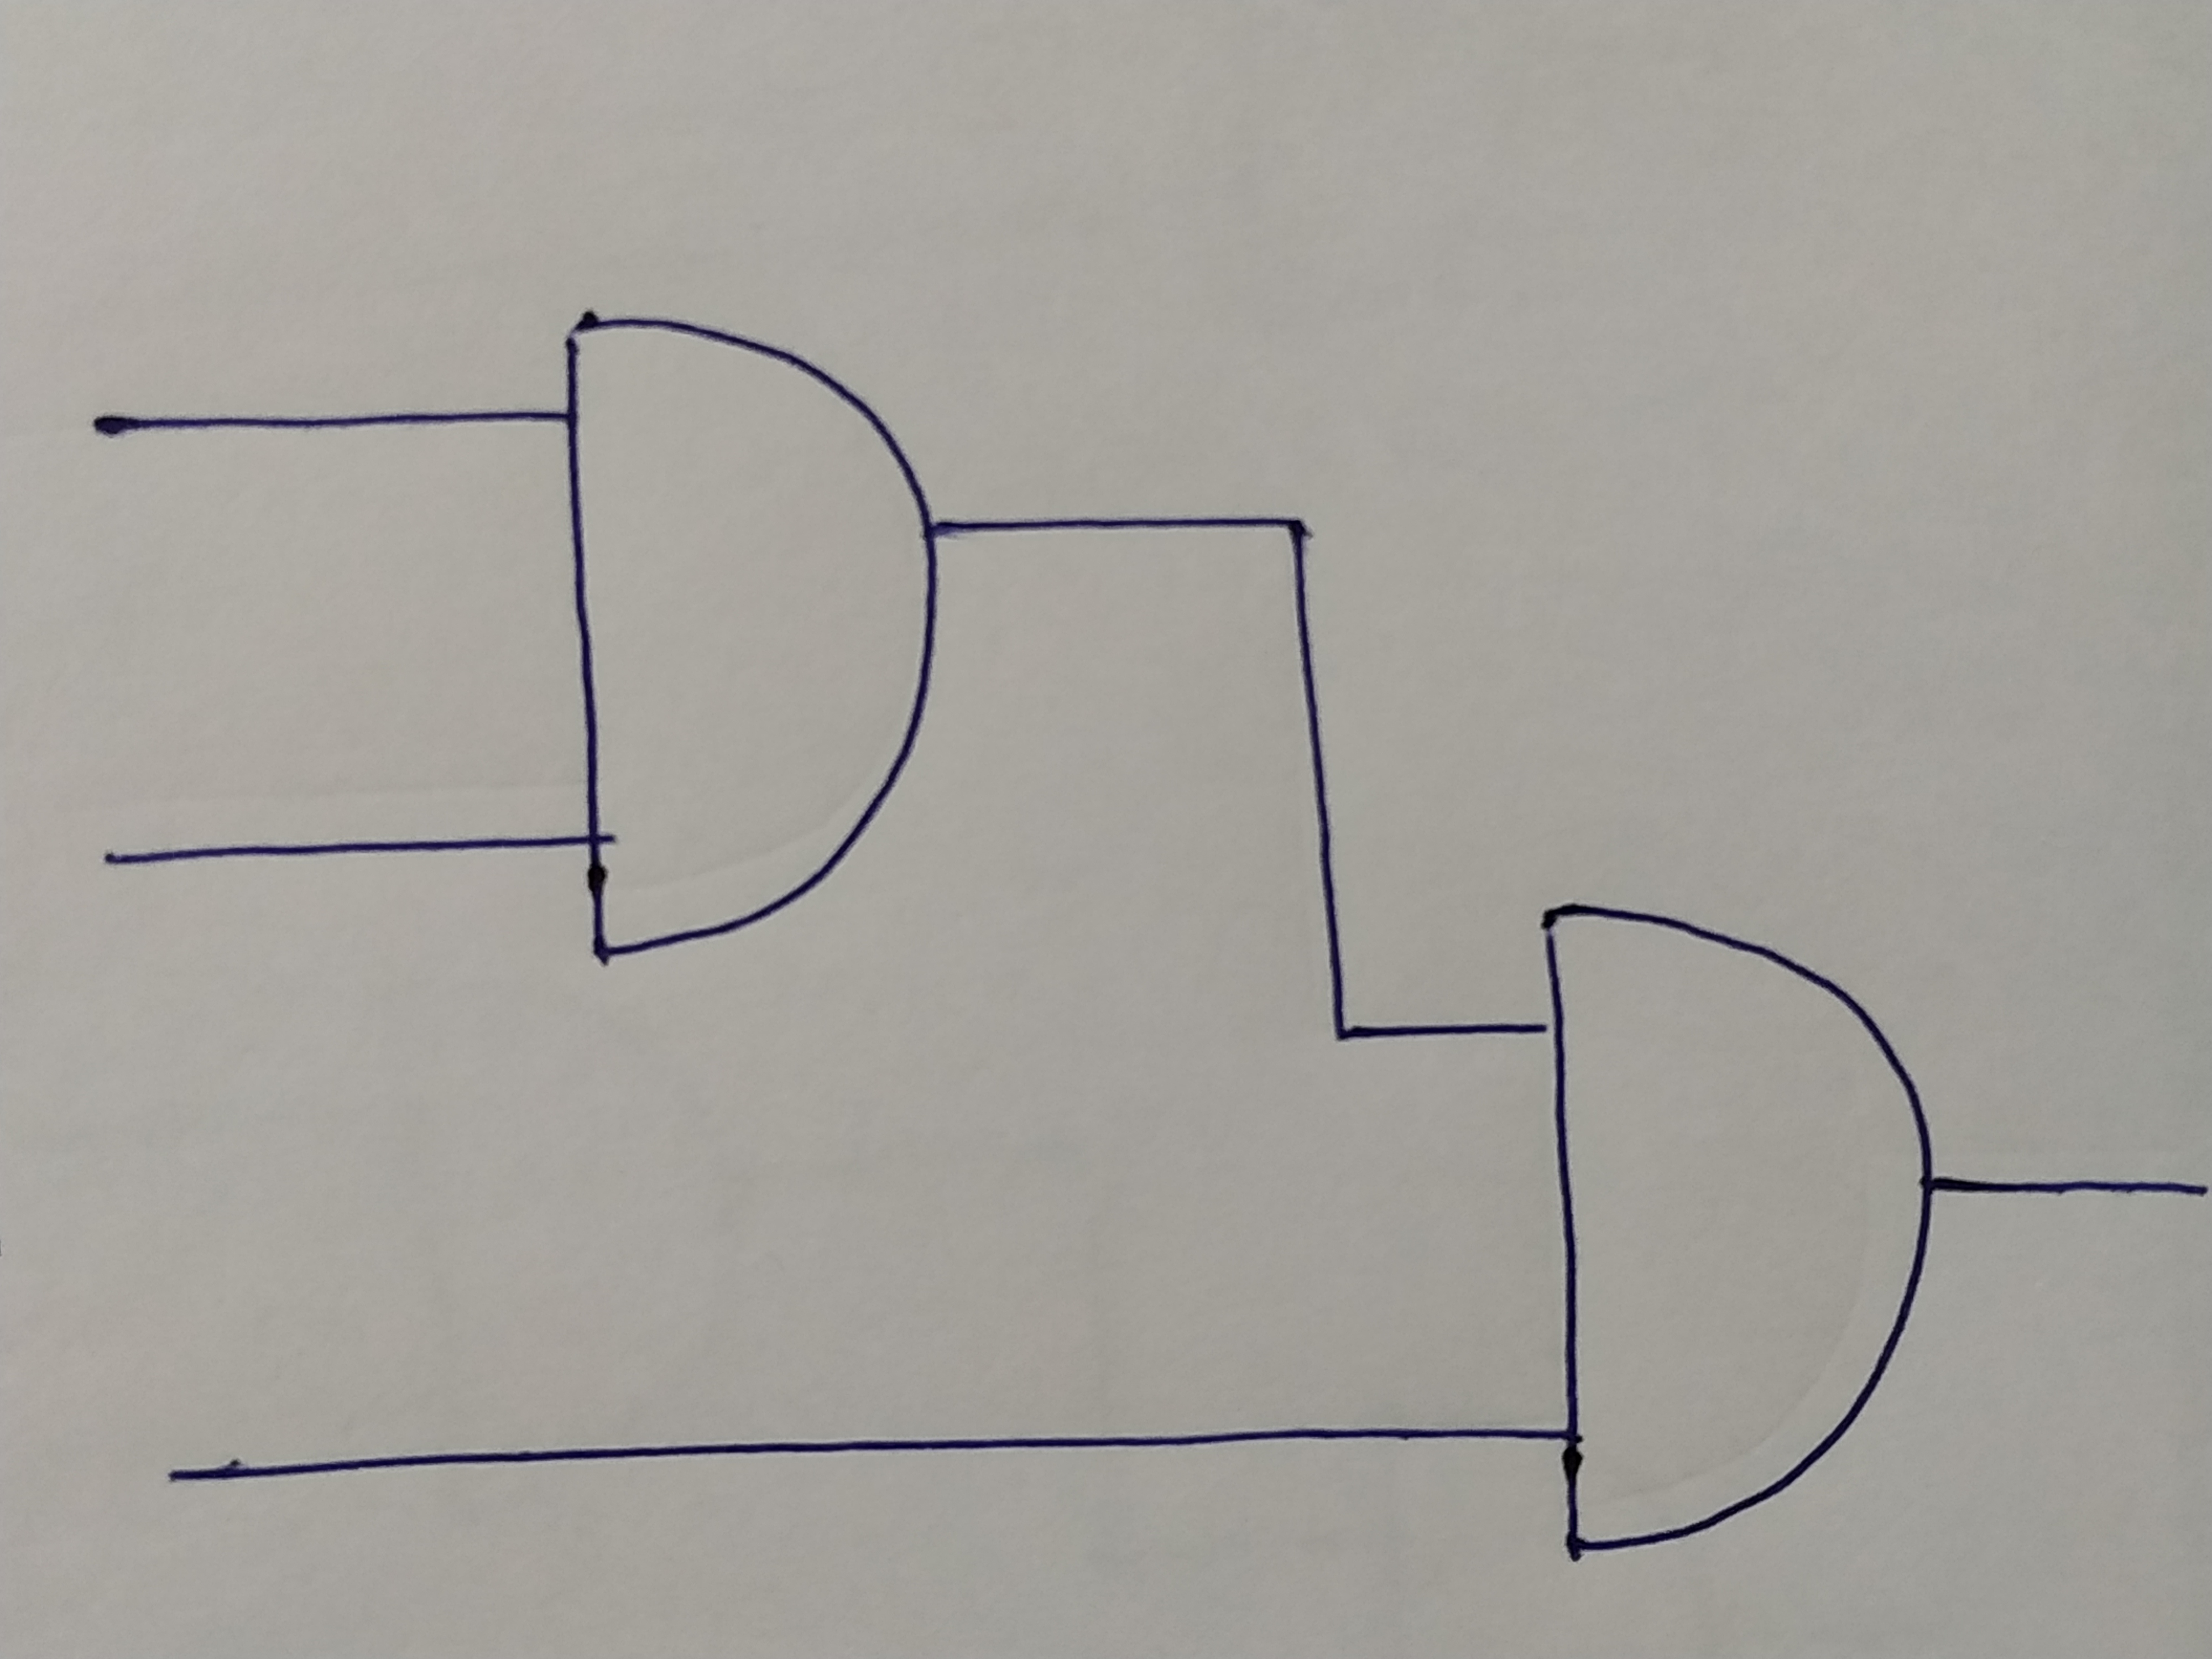and: (1538, 904, 1933, 1549), (559, 310, 941, 955)
